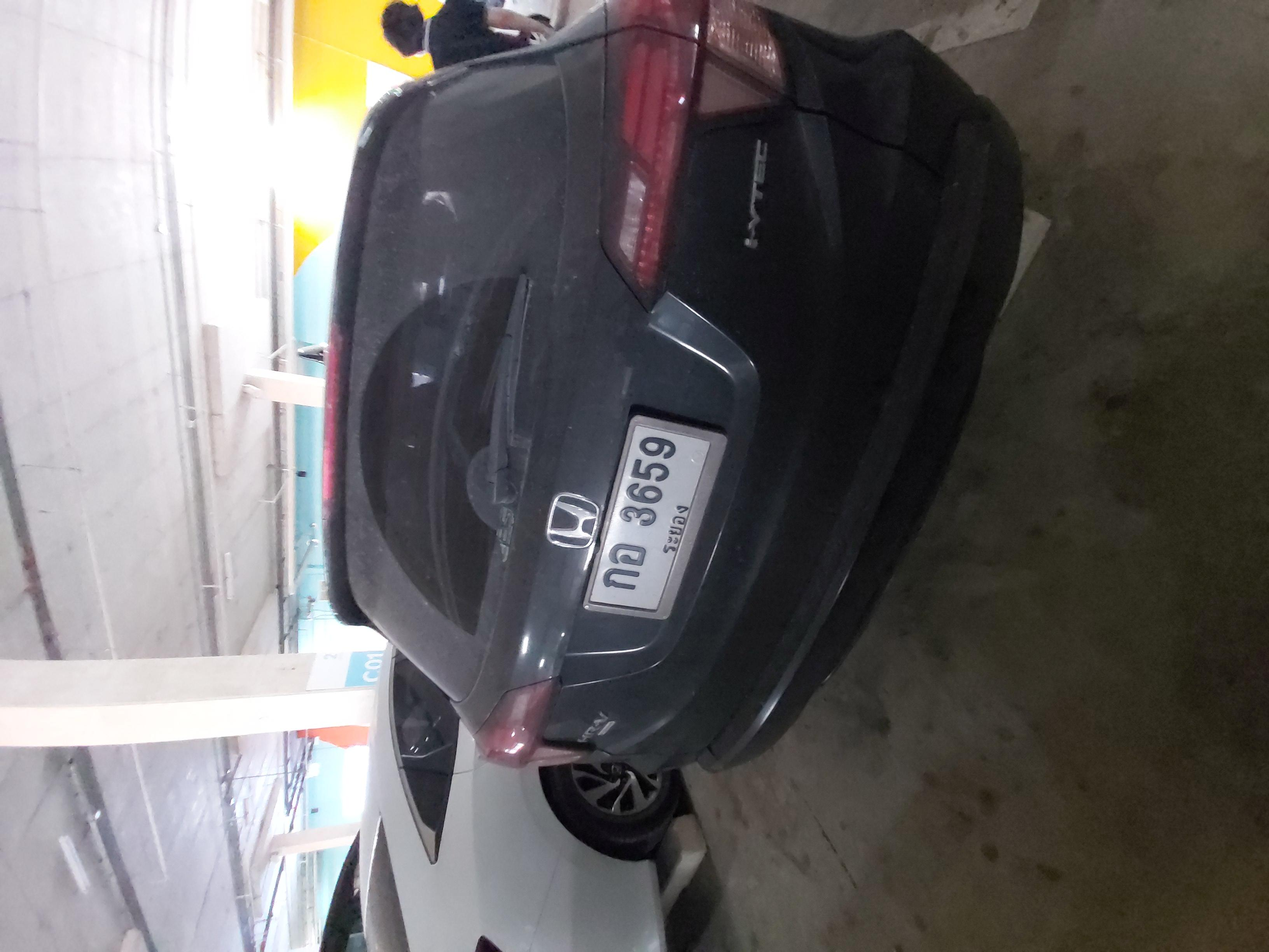license-plate: (456, 442, 704, 536)
